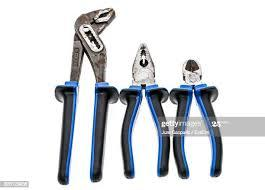pliers: (53, 6, 118, 185), (119, 40, 169, 179), (168, 56, 222, 178)
